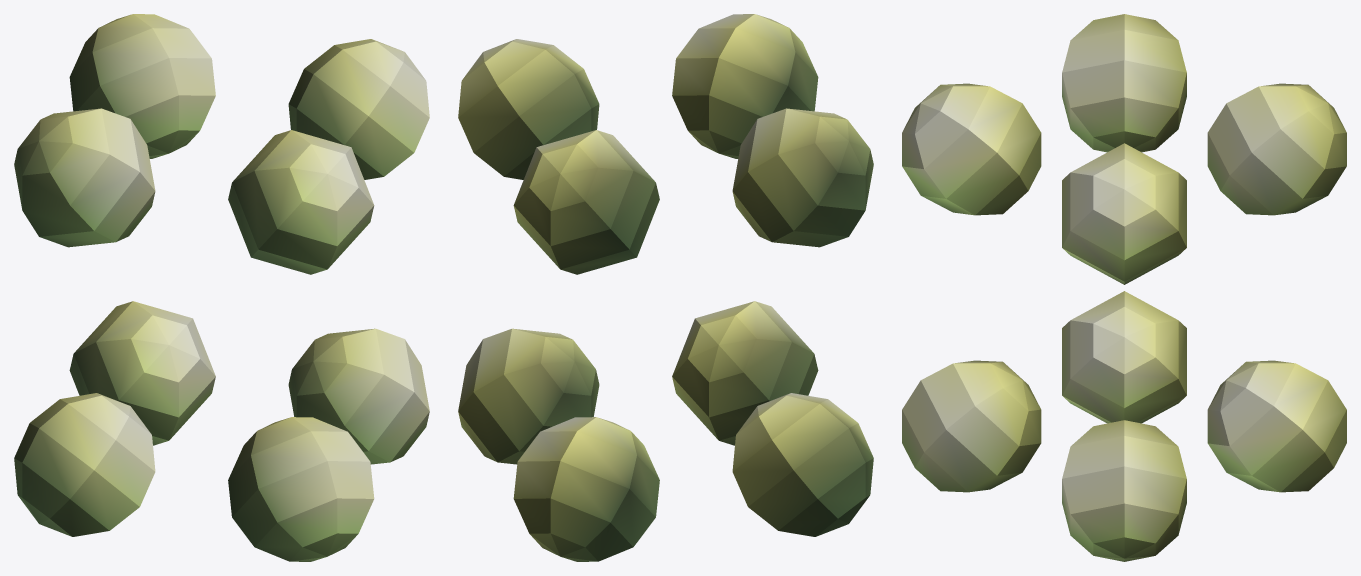
Rendered from shiningstonegreen.dae.
3 renders of one model, left to right at view 1: azimuth 30°, elevation 25°; view 2: azimuth 150°, elevation 25°; view 3: azimuth 270°, elevation 25°, orthographic. The views are drawn at different scales.
Visible parts, largest first — view 1: m0; view 2: m0; view 3: m0.
Part boxes in pixels (x1=…): m0: x1=14, y1=14, x2=429, y2=561; m0: x1=458, y1=14, x2=873, y2=561; m0: x1=902, y1=14, x2=1346, y2=561.
Bounding box in the file's own units: 724 × 724 × 724.
